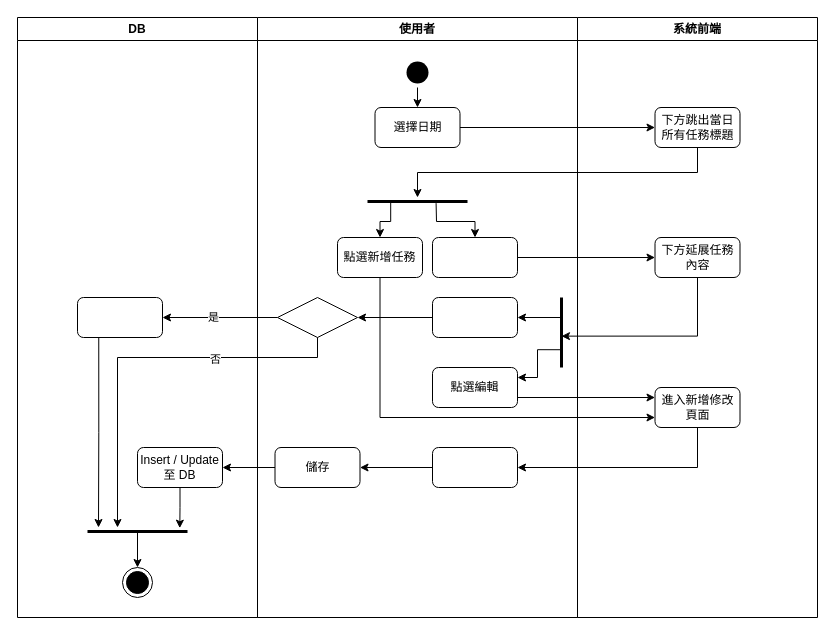
The diagram is 835 pixels wide and 635 high, and some of its shapes have lost their labels. The centre of each missing label's shape, as x and y in pixels:
確認刪除: the point at 317,317
移除任務 (直接移除 DB 內容): the point at 119,317
輸入 / 修改內容: the point at 475,467
點選刪除: the point at 475,317
點選現有任務: the point at 475,257
